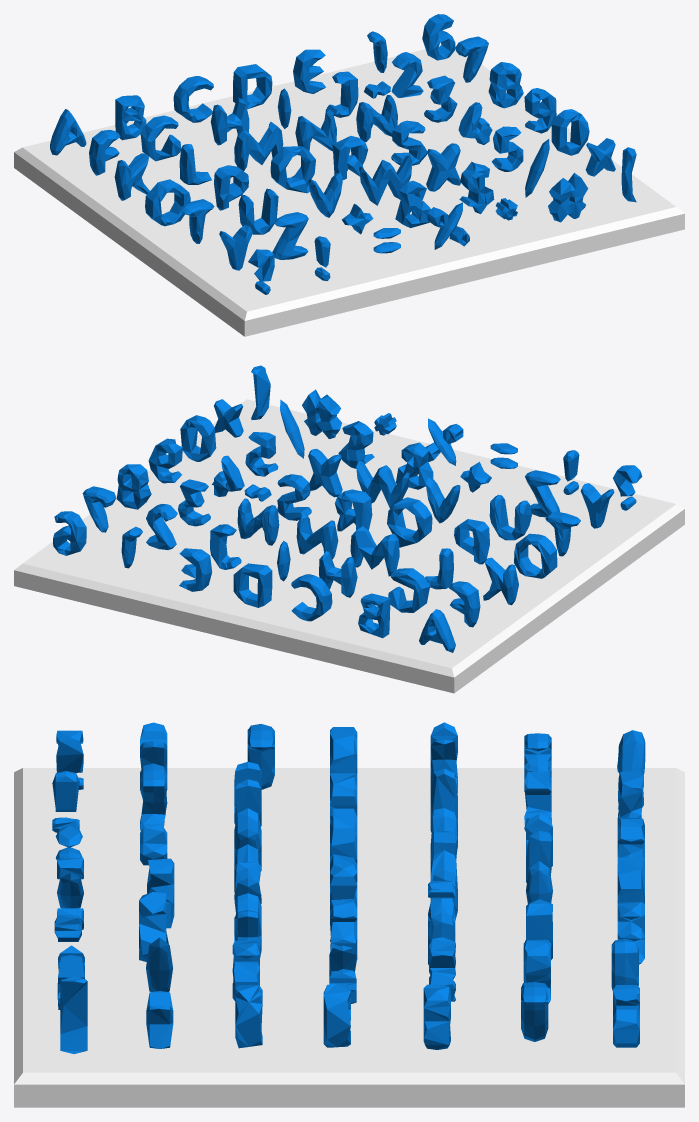
3 renders of one model, top to bottom at view 1: azimuth 30°, elevation 25°; view 2: azimuth 150°, elevation 25°; view 3: azimuth 270°, elevation 25°, orthographic. The views are drawn at different scales.
Parts seen in each view (by area): view 1: group_0, group_23, group_29, group_46, group_25, group_7, group_17, group_14, group_45, group_43, group_42, group_3 (+33 smaller); view 2: group_0, group_46, group_23, group_29, group_25, group_45, group_7, group_42, group_17, group_30, group_14, group_26 (+34 smaller); view 3: group_0, group_4, group_14, group_20, group_17, group_15, group_28, group_21, group_2, group_10, group_30, group_33 (+37 smaller).
Part boxes in pixels (box(x1,y1,x2,y2)): group_0: box(14, 45, 684, 336); group_23: box(270, 146, 315, 193); group_29: box(359, 155, 412, 205); group_46: box(234, 122, 283, 171); group_25: box(145, 179, 190, 226); group_7: box(548, 173, 588, 222); group_17: box(551, 109, 589, 155); group_14: box(488, 62, 523, 108); group_45: box(233, 64, 272, 109); group_43: box(356, 95, 397, 142); group_42: box(140, 115, 181, 161); group_3: box(395, 180, 430, 227); group_0: box(14, 399, 684, 693); group_46: box(350, 526, 399, 576); group_23: box(387, 497, 432, 547); group_29: box(356, 460, 409, 508); group_25: box(514, 533, 557, 578); group_45: box(233, 563, 272, 607); group_7: box(302, 389, 341, 438); group_42: box(388, 568, 429, 612); group_17: box(180, 415, 216, 461); group_30: box(489, 494, 531, 540); group_14: box(116, 464, 151, 509); group_26: box(334, 489, 372, 531); group_0: box(14, 768, 684, 1107); group_4: box(60, 976, 87, 1053); group_14: box(423, 984, 450, 1049); group_20: box(323, 983, 350, 1047); group_17: box(235, 985, 262, 1048); group_15: box(613, 985, 639, 1047); group_28: box(140, 763, 167, 830); group_21: box(521, 982, 548, 1041); group_2: box(139, 892, 168, 961); group_10: box(146, 991, 173, 1048); group_30: box(234, 761, 261, 826); group_33: box(247, 724, 274, 789).
Size of the model in its own units: 320 by 291 by 52.27.
